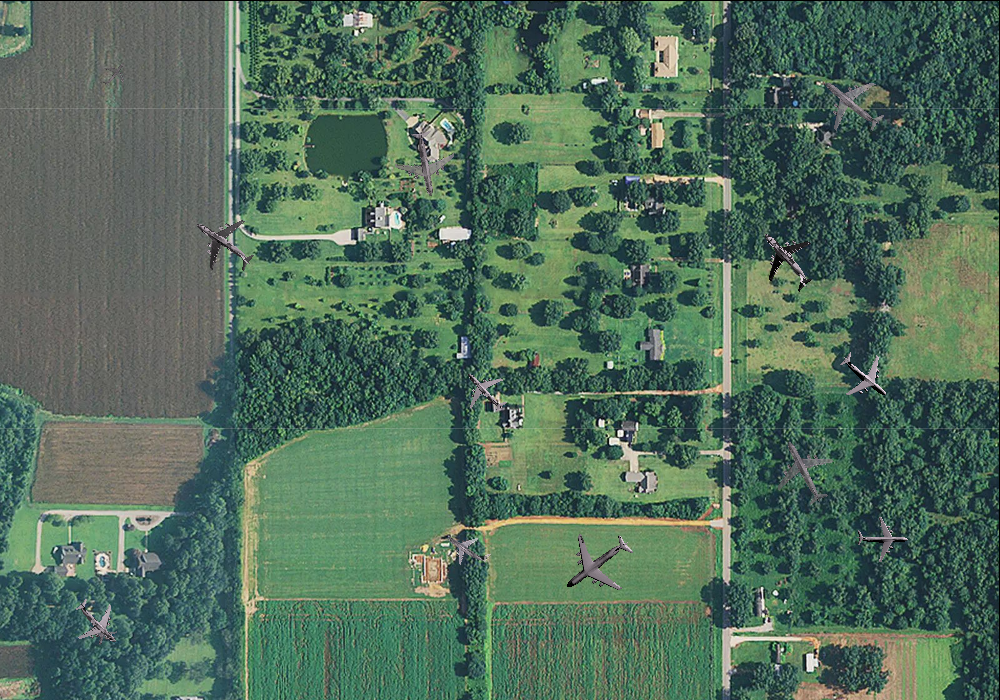plane: (546, 513, 648, 615), (806, 56, 899, 149), (740, 214, 832, 306), (178, 199, 268, 288), (761, 427, 847, 516), (826, 337, 904, 415), (389, 125, 461, 201), (60, 586, 133, 659), (452, 358, 518, 424), (437, 519, 498, 578), (857, 514, 908, 563), (94, 54, 133, 93), (85, 613, 119, 649)
